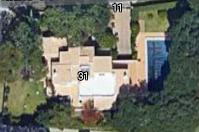pool: (145, 38, 173, 91)
